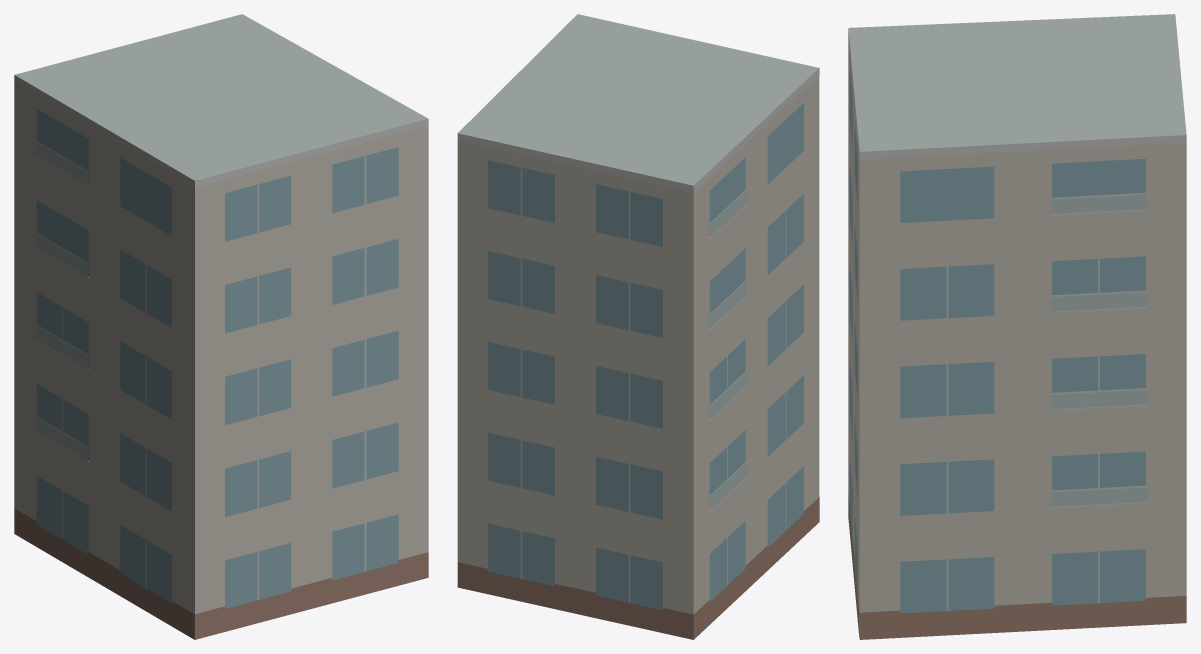
The model's file is survey-upis-32954732.glb.
The picture shows the model from 3 angles, left to right: view 1: azimuth 30°, elevation 25°; view 2: azimuth 150°, elevation 25°; view 3: azimuth 270°, elevation 25°; orthographic projection. The views are drawn at different scales.
Parts seen in each view (by area): view 1: survey-upis-32954732.tmp; view 2: survey-upis-32954732.tmp; view 3: survey-upis-32954732.tmp.
Part boxes in pixels (x1,y1,x2,y2): survey-upis-32954732.tmp: [14, 14, 428, 639]; survey-upis-32954732.tmp: [457, 14, 819, 639]; survey-upis-32954732.tmp: [848, 14, 1186, 639].
Bounding box in the file's own units: 9.46 × 15.6 × 9.81.
